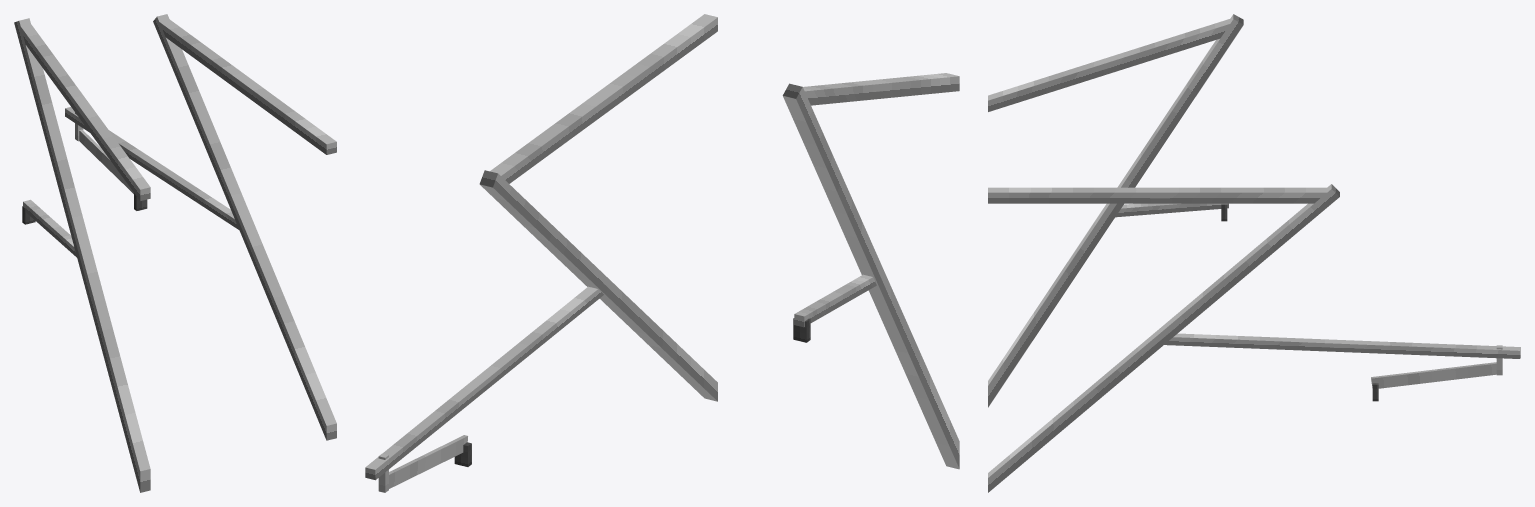
The model's file is cantilever_outer_8px.obj.
3 renders of one model, left to right at view 1: azimuth 30°, elevation 25°; view 2: azimuth 150°, elevation 25°; view 3: azimuth 270°, elevation 25°, orthographic. The views are drawn at different scales.
Parts seen in each view (by area): view 1: b891c1f7-1252-4311-b2b9-43043848afc0, 97df638c-68d8-4044-9b08-1c298011368c, 3961826f-effb-46a9-99bf-3fade4515f78, 68782e79-1452-4ad5-a092-9bf8dfde8418, cf7328ea-aefe-419f-a59b-b67688604398, 9543c772-317d-4a74-b406-10bb3e757c0f, 67eba299-44ea-4407-8619-522394c309be; view 2: b891c1f7-1252-4311-b2b9-43043848afc0, 97df638c-68d8-4044-9b08-1c298011368c, 3961826f-effb-46a9-99bf-3fade4515f78, cf7328ea-aefe-419f-a59b-b67688604398, 68782e79-1452-4ad5-a092-9bf8dfde8418, 9543c772-317d-4a74-b406-10bb3e757c0f, 67eba299-44ea-4407-8619-522394c309be; view 3: 97df638c-68d8-4044-9b08-1c298011368c, b891c1f7-1252-4311-b2b9-43043848afc0, 3961826f-effb-46a9-99bf-3fade4515f78, cf7328ea-aefe-419f-a59b-b67688604398, 68782e79-1452-4ad5-a092-9bf8dfde8418, 67eba299-44ea-4407-8619-522394c309be, 9543c772-317d-4a74-b406-10bb3e757c0f.
Part boxes in pixels (left/top/right/bottom): b891c1f7-1252-4311-b2b9-43043848afc0: left=14, top=18, right=150, bottom=492; 97df638c-68d8-4044-9b08-1c298011368c: left=153, top=14, right=336, bottom=440; 3961826f-effb-46a9-99bf-3fade4515f78: left=159, top=19, right=336, bottom=154; 68782e79-1452-4ad5-a092-9bf8dfde8418: left=20, top=24, right=150, bottom=200; cf7328ea-aefe-419f-a59b-b67688604398: left=65, top=107, right=238, bottom=229; 9543c772-317d-4a74-b406-10bb3e757c0f: left=23, top=199, right=76, bottom=257; 67eba299-44ea-4407-8619-522394c309be: left=79, top=129, right=133, bottom=193; b891c1f7-1252-4311-b2b9-43043848afc0: left=782, top=83, right=959, bottom=469; 97df638c-68d8-4044-9b08-1c298011368c: left=479, top=170, right=717, bottom=401; 3961826f-effb-46a9-99bf-3fade4515f78: left=490, top=14, right=717, bottom=183; cf7328ea-aefe-419f-a59b-b67688604398: left=365, top=286, right=603, bottom=480; 68782e79-1452-4ad5-a092-9bf8dfde8418: left=803, top=73, right=959, bottom=105; 9543c772-317d-4a74-b406-10bb3e757c0f: left=794, top=274, right=876, bottom=327; 67eba299-44ea-4407-8619-522394c309be: left=389, top=435, right=467, bottom=488; 97df638c-68d8-4044-9b08-1c298011368c: left=988, top=184, right=1339, bottom=492; b891c1f7-1252-4311-b2b9-43043848afc0: left=988, top=14, right=1243, bottom=407; 3961826f-effb-46a9-99bf-3fade4515f78: left=988, top=187, right=1327, bottom=203; cf7328ea-aefe-419f-a59b-b67688604398: left=1164, top=333, right=1520, bottom=358; 68782e79-1452-4ad5-a092-9bf8dfde8418: left=988, top=19, right=1230, bottom=111; 67eba299-44ea-4407-8619-522394c309be: left=1371, top=362, right=1496, bottom=388; 9543c772-317d-4a74-b406-10bb3e757c0f: left=1115, top=203, right=1228, bottom=217.
Size of the model in its own units: 1.19 by 2.21 by 2.75.
